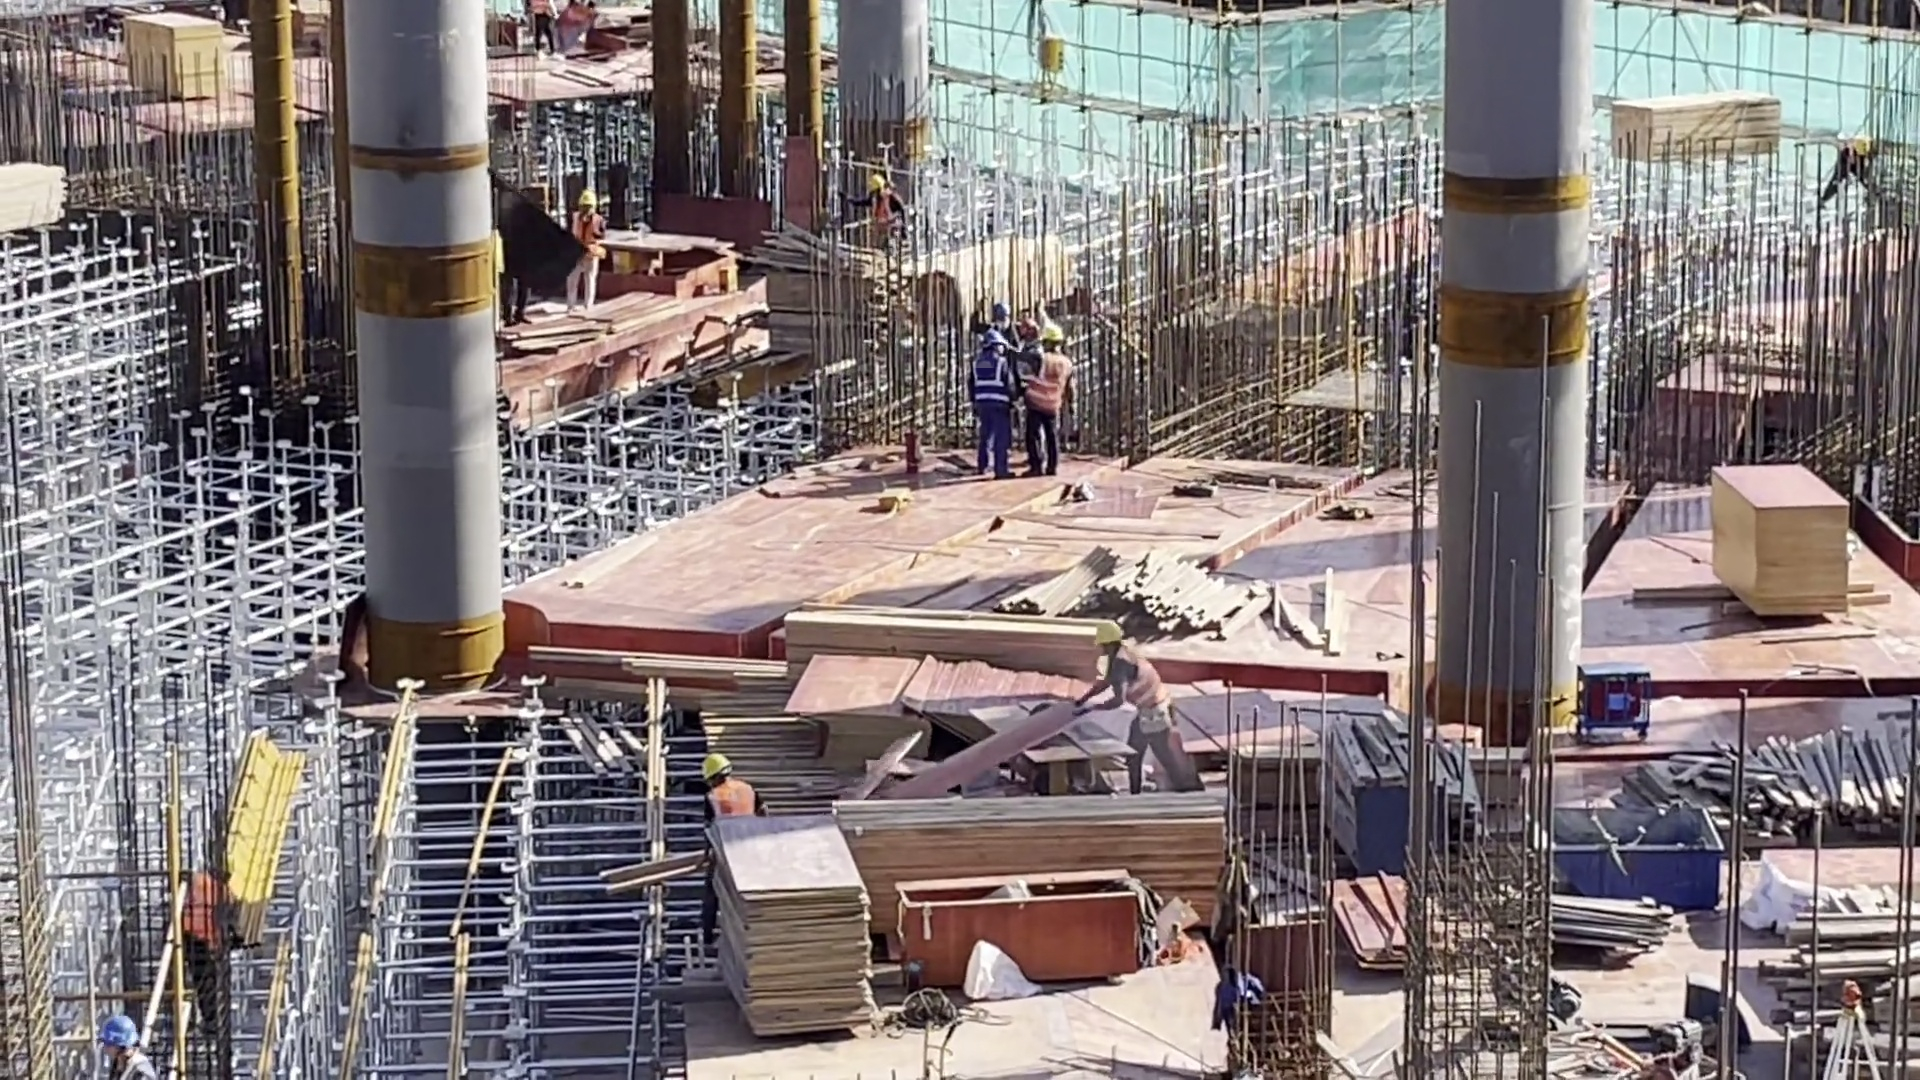board: (714, 813, 878, 1040), (1710, 461, 1852, 624), (793, 649, 928, 783), (125, 12, 226, 100), (1327, 872, 1409, 975)
cutter: (972, 698, 1137, 793), (609, 231, 738, 296)
ebox: (1039, 35, 1068, 97)
helmet: (701, 757, 731, 788), (104, 1018, 135, 1045), (1094, 622, 1124, 649), (1037, 325, 1065, 346), (979, 328, 1005, 350), (867, 175, 885, 195), (992, 303, 1013, 319), (576, 191, 596, 207)
hopper: (1545, 801, 1722, 910)
person: (1055, 624, 1206, 799), (175, 865, 231, 1020), (831, 170, 910, 270), (958, 339, 1007, 493), (1029, 326, 1073, 481), (1813, 132, 1889, 217), (565, 186, 609, 308), (696, 755, 757, 825), (99, 1013, 160, 1080), (966, 303, 1016, 347), (527, 1, 557, 59)
vest: (1109, 648, 1177, 730), (965, 359, 1005, 417), (1035, 357, 1069, 420), (571, 214, 607, 267), (711, 783, 757, 817), (866, 191, 899, 224)
wood: (1001, 547, 1353, 654), (1665, 715, 1920, 851), (1747, 878, 1920, 1065), (846, 794, 1220, 875), (781, 600, 1117, 675), (745, 225, 893, 362), (919, 234, 1084, 327), (1610, 89, 1785, 158), (1, 160, 70, 230)
